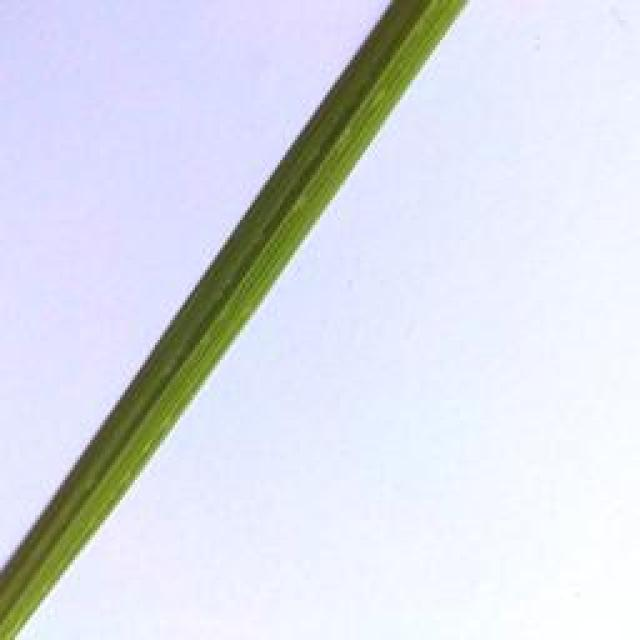Healthy-Plant: (0, 0, 478, 640)
